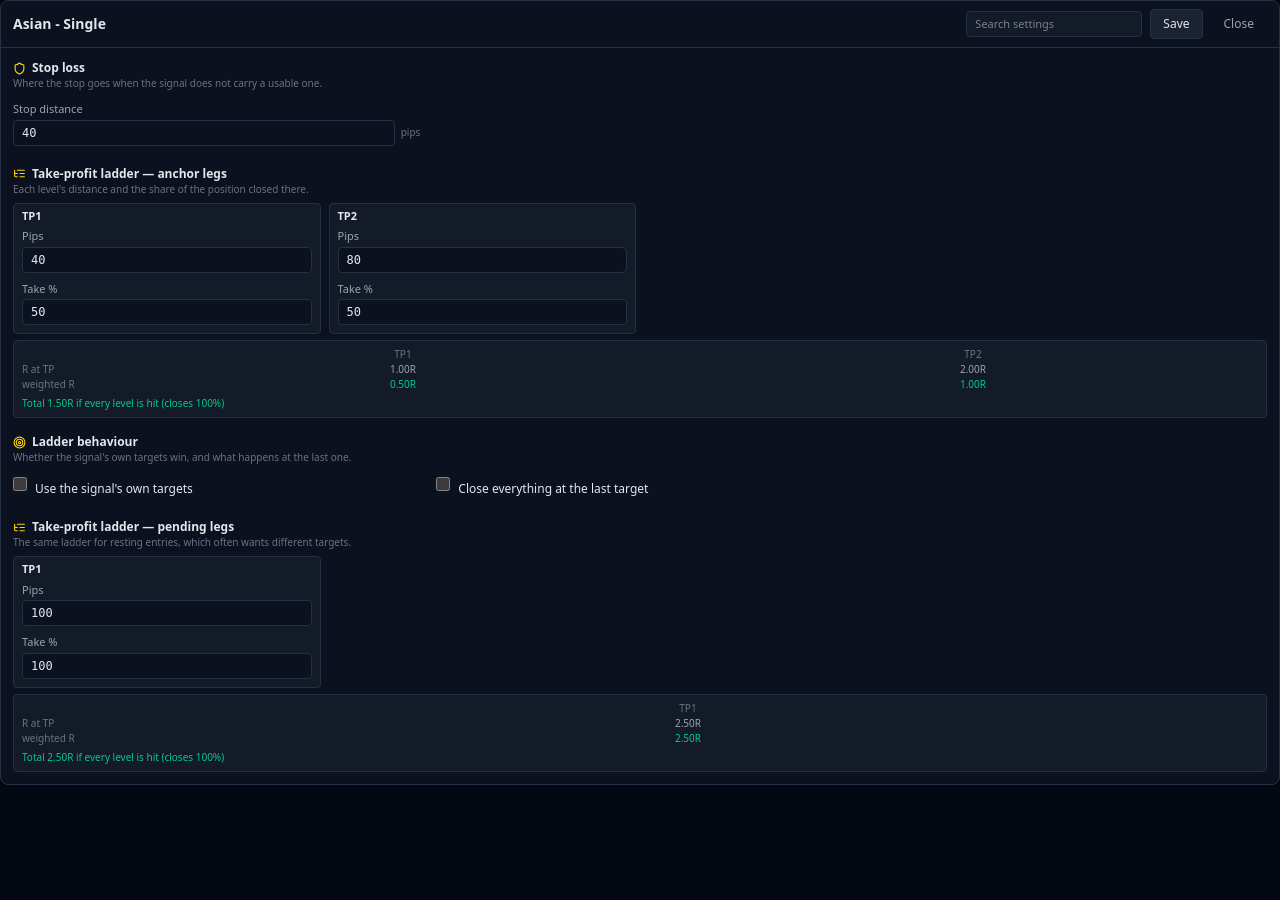
it: the readout follows the form › re-values when a level's share of the position changes
This screenshot has width=1280, height=900.
Replace the text in the field named "tp1 take %" with "20" at coordinates (167, 312), box [22,299,312,325]
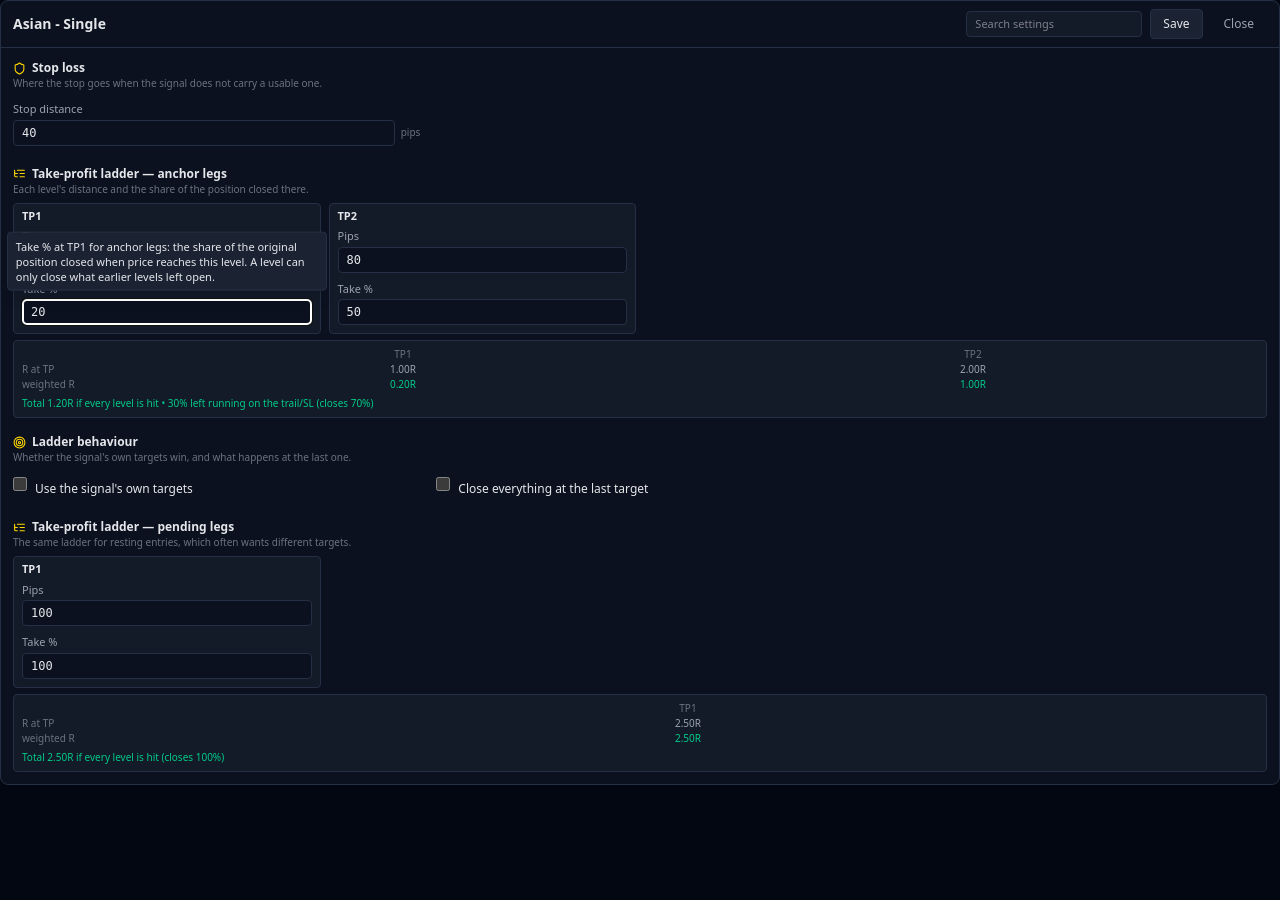
Expected: the text with test id "rr-summary-tp" shows "1.20R", [22,396,373,410]
Expected: the text with test id "rr-summary-tp" shows "30% left running", [22,396,373,410]
